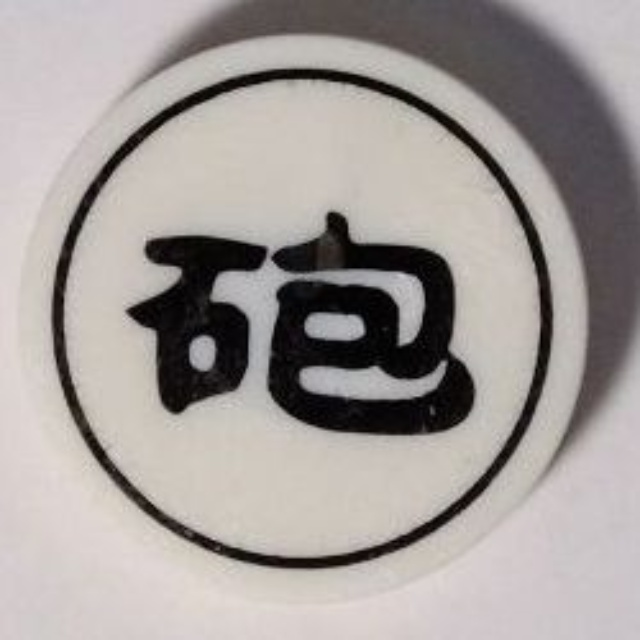black_phao: (15, 32, 604, 608)
